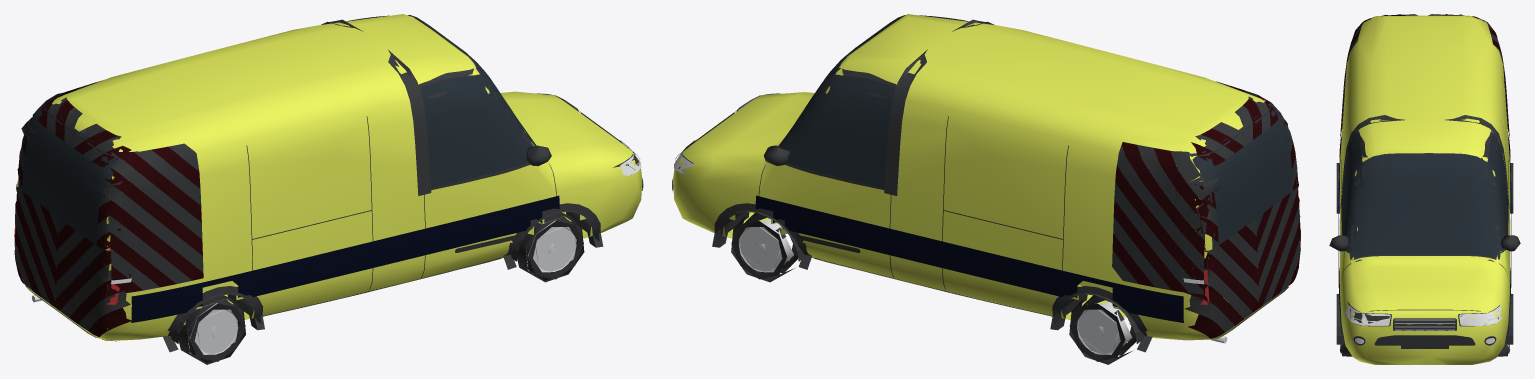
File: patrol_van_far.glb
3 renders of one model, left to right at view 1: azimuth 30°, elevation 25°; view 2: azimuth 150°, elevation 25°; view 3: azimuth 270°, elevation 25°, orthographic. The views are drawn at different scales.
Visible parts, largest first — view 1: Body, Blue-1, Glass-1, RearGlass, WheelRR, WheelFR, Bpillar-1, ChevS-16, ChevS-17, ChevS-15, ChevS-18, ChevS-19 (+21 smaller); view 2: Body, Blue1, Glass1, RearGlass, WheelRL, WheelFL, Bpillar1, ChevS16, ChevS15, ChevS17, ChevS18, ChevS14 (+20 smaller); view 3: Body, Windshield, Glass1, Glass-1, Intake, HeadReflector, Grille, WsFrame, HeadBezel, Bpillar-1, Bpillar1, ArchLiner (+11 smaller).
Boxes of the visible parts, x1,y1,x2,y2 form: Body: (16, 14, 642, 340); Blue-1: (131, 195, 559, 322); Glass-1: (420, 74, 536, 188); RearGlass: (18, 102, 122, 244); WheelRR: (179, 295, 245, 364); WheelFR: (517, 212, 584, 282); Bpillar-1: (388, 50, 431, 195); ChevS-16: (89, 181, 203, 272); ChevS-17: (104, 165, 202, 255); ChevS-15: (99, 192, 203, 280); ChevS-18: (102, 152, 202, 238); ChevS-19: (113, 151, 201, 222); Body: (673, 14, 1296, 340); Blue1: (755, 195, 1183, 322); Glass1: (779, 74, 894, 187); RearGlass: (1192, 103, 1296, 247); WheelRL: (1069, 295, 1136, 364); WheelFL: (731, 212, 797, 282); Bpillar1: (884, 49, 927, 195); ChevS16: (1117, 145, 1204, 273); ChevS15: (1121, 142, 1204, 256); ChevS17: (1115, 165, 1203, 289); ChevS18: (1114, 183, 1203, 294); ChevS14: (1137, 145, 1206, 239); Body: (1339, 15, 1510, 364); Windshield: (1352, 153, 1497, 257); Glass1: (1476, 133, 1508, 251); Glass-1: (1341, 133, 1364, 251); Intake: (1374, 335, 1475, 345); HeadReflector: (1345, 305, 1502, 325); Grille: (1393, 318, 1456, 330); WsFrame: (1349, 153, 1500, 259); HeadBezel: (1347, 302, 1499, 326); Bpillar-1: (1340, 115, 1404, 208); Bpillar1: (1445, 115, 1509, 208); ArchLiner: (1505, 294, 1513, 344).
Bounding box in the file's own units: 5.62 × 2.29 × 2.15.
